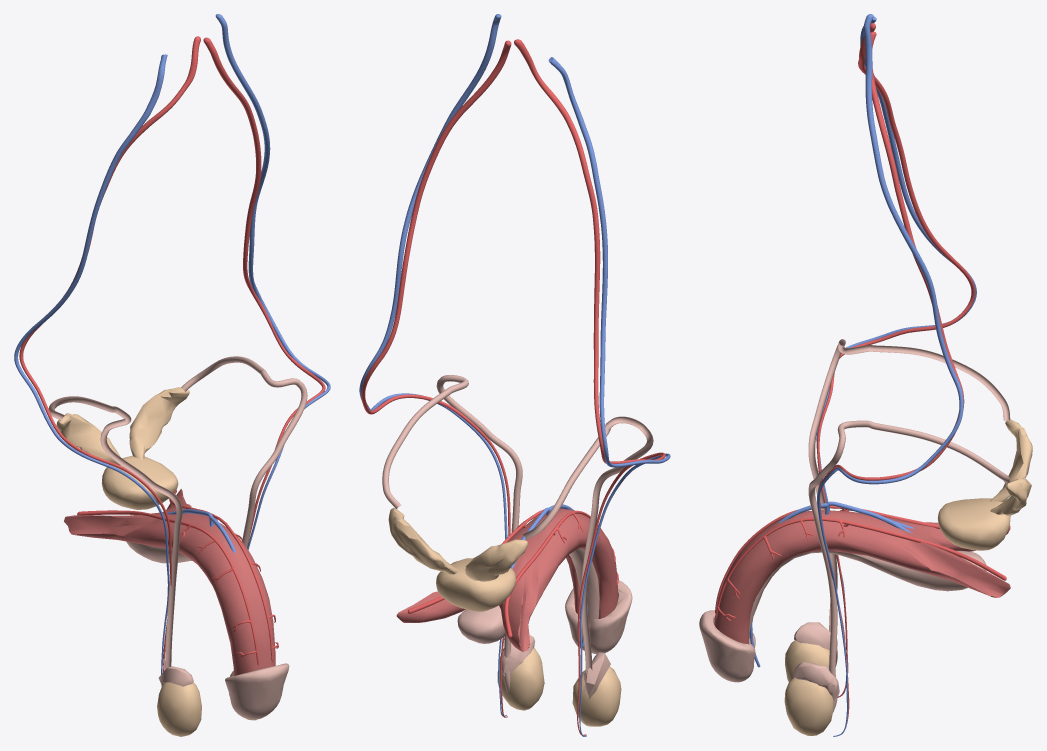
File: reproductor.glb
3 renders of one model, left to right at view 1: azimuth 30°, elevation 25°; view 2: azimuth 150°, elevation 25°; view 3: azimuth 270°, elevation 25°, orthographic. The views are drawn at different scales.
Visible parts, largest first — view 1: cuerpos-cavernosos, conducto-deferente, vena-testicular-d, arteria-testicular-i, vena-testicular-i, glande, prostata, arteria-testicular-d, vesicula-seminal-i, testiculo-d, vesicula-seminal-d, arteria-dorsal-pene-d__FJ3592 (+2 smaller); view 2: cuerpos-cavernosos, conducto-deferente, arteria-testicular-d, vena-testicular-d, arteria-testicular-i, vena-testicular-i, prostata, cuerpo-esponjoso, glande, testiculo-d, testiculo-i, vesicula-seminal-i (+4 smaller); view 3: cuerpos-cavernosos, conducto-deferente, vena-testicular-i, prostata, arteria-testicular-d, glande, testiculo-i, arteria-testicular-i, cuerpo-esponjoso, arteria-dorsal-pene-i__FJ3496, vena-testicular-d, vesicula-seminal-d (+6 smaller).
Part boxes in pixels (x1,y1,x2,y2): cuerpos-cavernosos: (64, 489, 275, 675); conducto-deferente: (48, 356, 307, 669); vena-testicular-d: (14, 54, 169, 686); arteria-testicular-i: (203, 37, 325, 545); vena-testicular-i: (215, 14, 330, 549); glande: (225, 663, 289, 719); prostata: (101, 455, 178, 509); arteria-testicular-d: (19, 36, 200, 672); vesicula-seminal-i: (129, 387, 189, 459); testiculo-d: (157, 682, 201, 736); vesicula-seminal-d: (56, 413, 120, 465); arteria-dorsal-pene-d__FJ3592: (77, 510, 258, 665); cuerpos-cavernosos: (396, 508, 617, 651); conducto-deferente: (382, 375, 653, 698); arteria-testicular-d: (514, 39, 665, 735); vena-testicular-d: (548, 57, 670, 736); arteria-testicular-i: (361, 40, 511, 717); vena-testicular-i: (359, 14, 507, 716); prostata: (436, 558, 515, 611); cuerpo-esponjoso: (457, 548, 599, 643); glande: (565, 580, 632, 654); testiculo-d: (572, 666, 621, 726); testiculo-i: (497, 647, 544, 710); vesicula-seminal-i: (388, 508, 458, 574); cuerpos-cavernosos: (714, 510, 1010, 644); conducto-deferente: (808, 339, 1010, 712); vena-testicular-i: (817, 14, 963, 736); prostata: (937, 498, 1010, 550); arteria-testicular-d: (817, 23, 975, 697); glande: (699, 610, 755, 682); testiculo-i: (784, 677, 833, 735); arteria-testicular-i: (818, 31, 964, 723); cuerpo-esponjoso: (749, 550, 986, 640); arteria-dorsal-pene-i__FJ3496: (714, 517, 1006, 621); vena-testicular-d: (816, 16, 976, 696); vesicula-seminal-d: (990, 419, 1032, 501).
Bounding box in the file's own units: 0.1422 × 0.3467 × 0.146.
